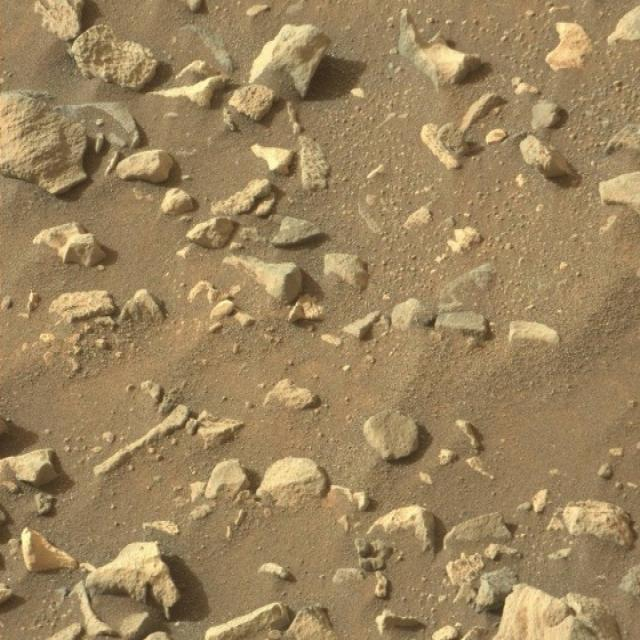rock: (0, 90, 94, 193), (497, 577, 620, 640), (250, 24, 329, 100)
